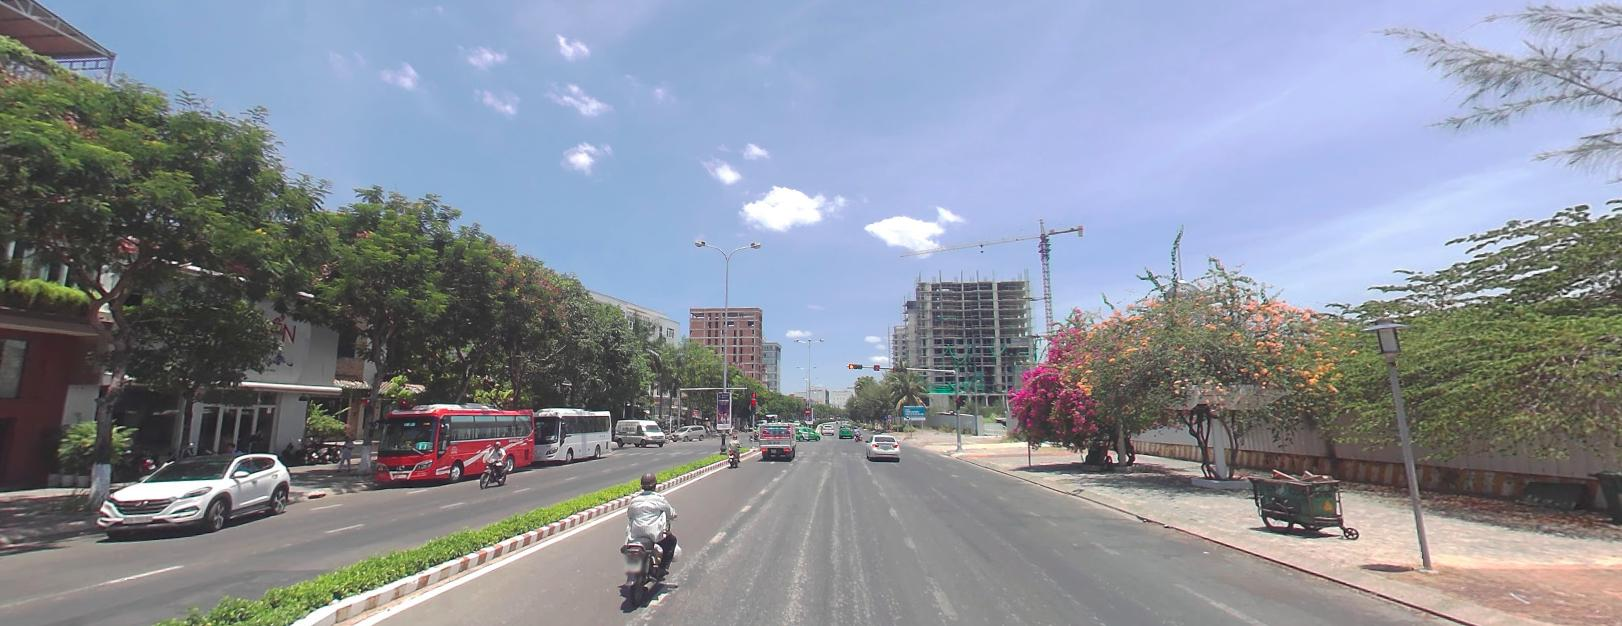Cam nguoc chieu: (804, 407, 810, 413)
